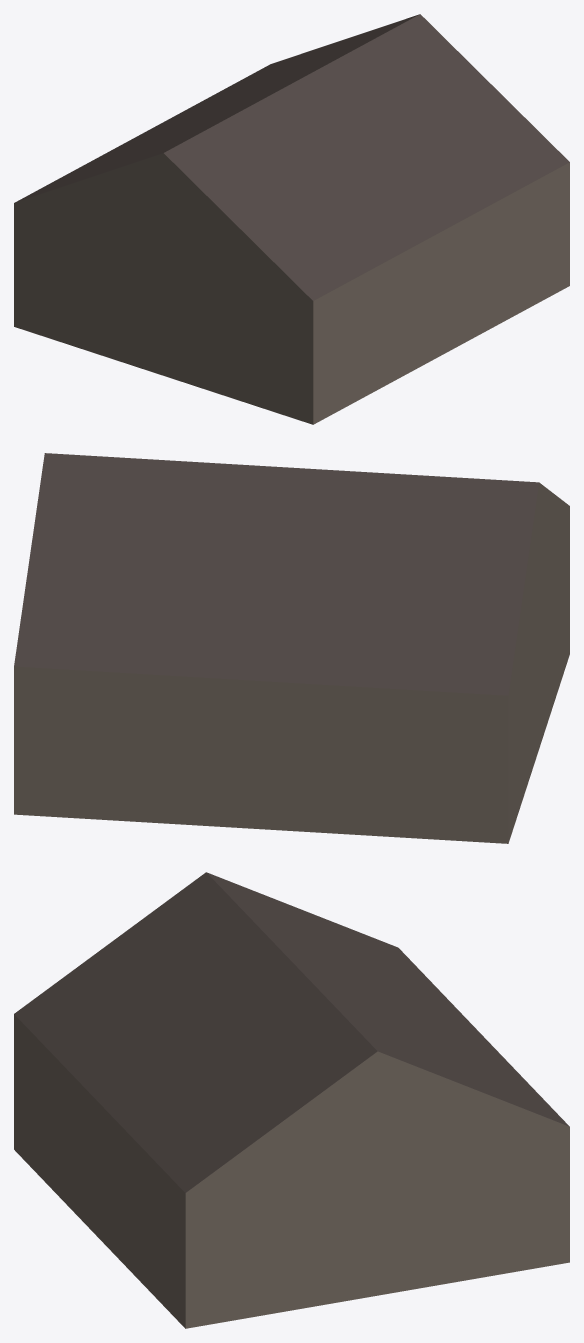
3 renders of one model, top to bottom at view 1: azimuth 30°, elevation 25°; view 2: azimuth 150°, elevation 25°; view 3: azimuth 270°, elevation 25°, orthographic. The views are drawn at different scales.
Visible parts, largest first — view 1: HP-w859457349; view 2: HP-w859457349; view 3: HP-w859457349.
Boxes of the visible parts, bbox=[...] form: HP-w859457349: bbox=[14, 14, 569, 424]; HP-w859457349: bbox=[14, 453, 569, 843]; HP-w859457349: bbox=[14, 872, 569, 1328].
Bounding box in the file's own units: 23.29 × 10.81 × 22.29.
